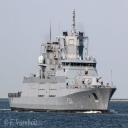Fragata: (9, 5, 118, 116)
